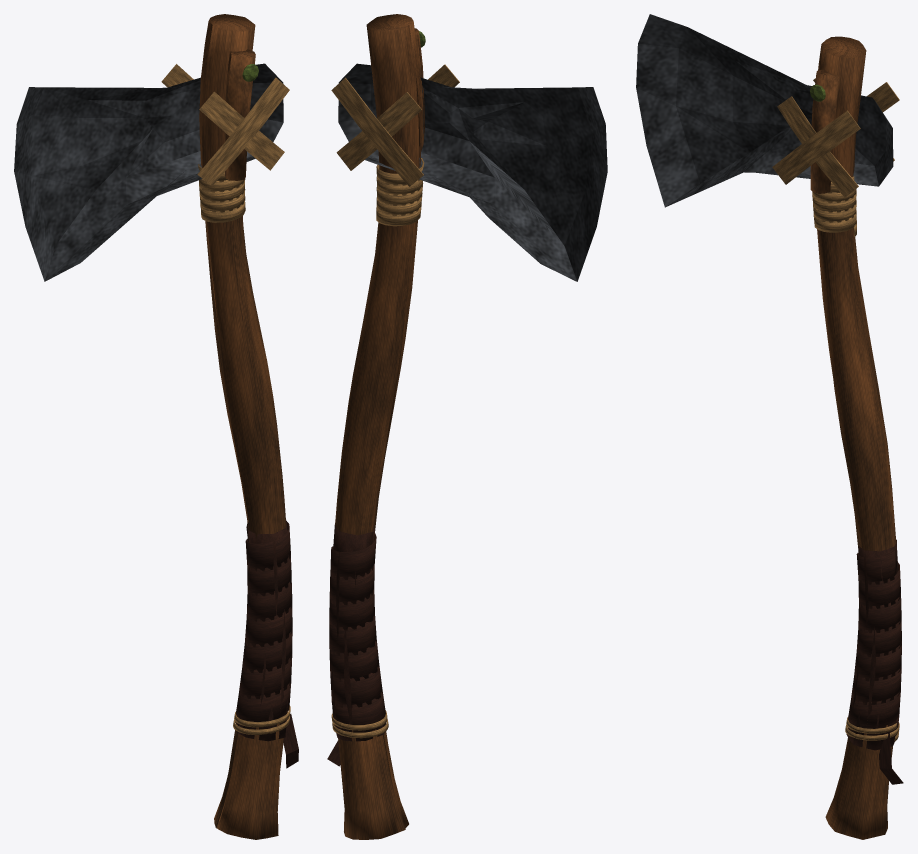
File: stone_axe_lod1.glb
3 renders of one model, left to right at view 1: azimuth 30°, elevation 25°; view 2: azimuth 150°, elevation 25°; view 3: azimuth 330°, elevation 25°, orthographic. The views are drawn at different scales.
Parts seen in each view (by area): view 1: stone_axe_stone.001, stone_axe_wood.001, stone_axe_leather.001, stone_axe_fiber.001; view 2: stone_axe_stone.001, stone_axe_wood.001, stone_axe_leather.001, stone_axe_fiber.001; view 3: stone_axe_stone.001, stone_axe_wood.001, stone_axe_leather.001, stone_axe_fiber.001.
Boxes of the visible parts, x1,y1,x2,y2 form: stone_axe_stone.001: (14,63,283,281); stone_axe_wood.001: (199,14,286,839); stone_axe_leather.001: (236,520,298,768); stone_axe_fiber.001: (161,64,290,734); stone_axe_stone.001: (338,63,607,281); stone_axe_wood.001: (335,14,424,839); stone_axe_leather.001: (327,523,385,766); stone_axe_fiber.001: (331,64,459,738); stone_axe_stone.001: (636,14,893,207); stone_axe_wood.001: (810,36,896,839); stone_axe_leather.001: (846,539,903,784); stone_axe_fiber.001: (772,78,899,741).
Bounding box in the file's own units: 0.3036 × 0.8383 × 0.0882.
5 materials, 5 textured.
